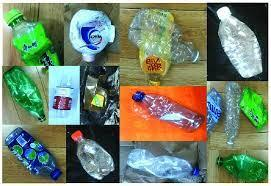plastic: (127, 11, 201, 66), (216, 7, 264, 78), (3, 8, 61, 66), (131, 90, 205, 134), (5, 128, 62, 181), (139, 11, 174, 86), (3, 68, 47, 123), (69, 9, 112, 63), (70, 130, 116, 180), (126, 148, 200, 179), (217, 155, 268, 181), (223, 81, 242, 148), (240, 88, 268, 132), (53, 78, 75, 124), (84, 76, 108, 113), (207, 89, 224, 135)
